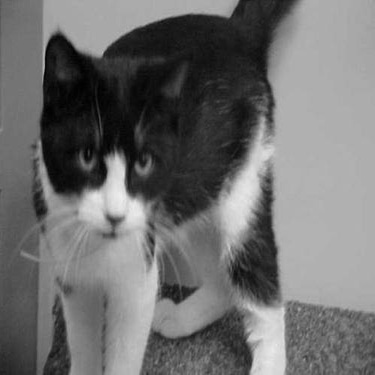cat: (26, 1, 293, 370)
